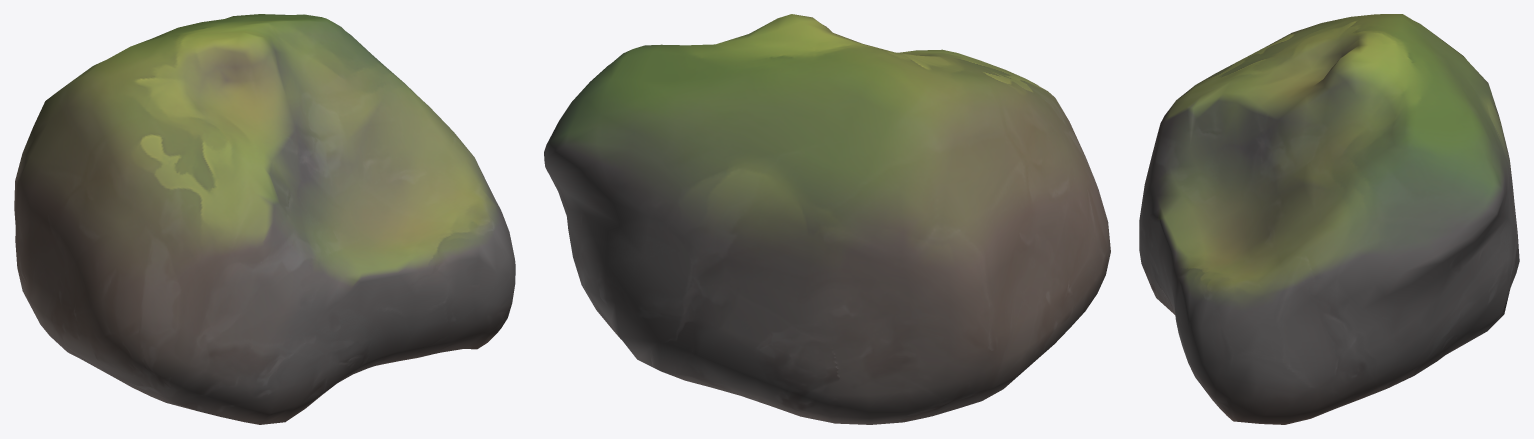
Rendered from stone(B).fbx.
3 renders of one model, left to right at view 1: azimuth 30°, elevation 25°; view 2: azimuth 150°, elevation 25°; view 3: azimuth 270°, elevation 25°, orthographic. The views are drawn at different scales.
Visible parts, largest first — view 1: PM3D_Cube3D1; view 2: PM3D_Cube3D1; view 3: PM3D_Cube3D1.
Boxes of the visible parts, x1=… form: PM3D_Cube3D1: x1=14, y1=14, x2=515, y2=424; PM3D_Cube3D1: x1=544, y1=14, x2=1110, y2=424; PM3D_Cube3D1: x1=1139, y1=14, x2=1519, y2=424.
Size of the model in its own units: 41.97 by 29.83 by 35.46.
Materials: 1 (1 with a texture image).
